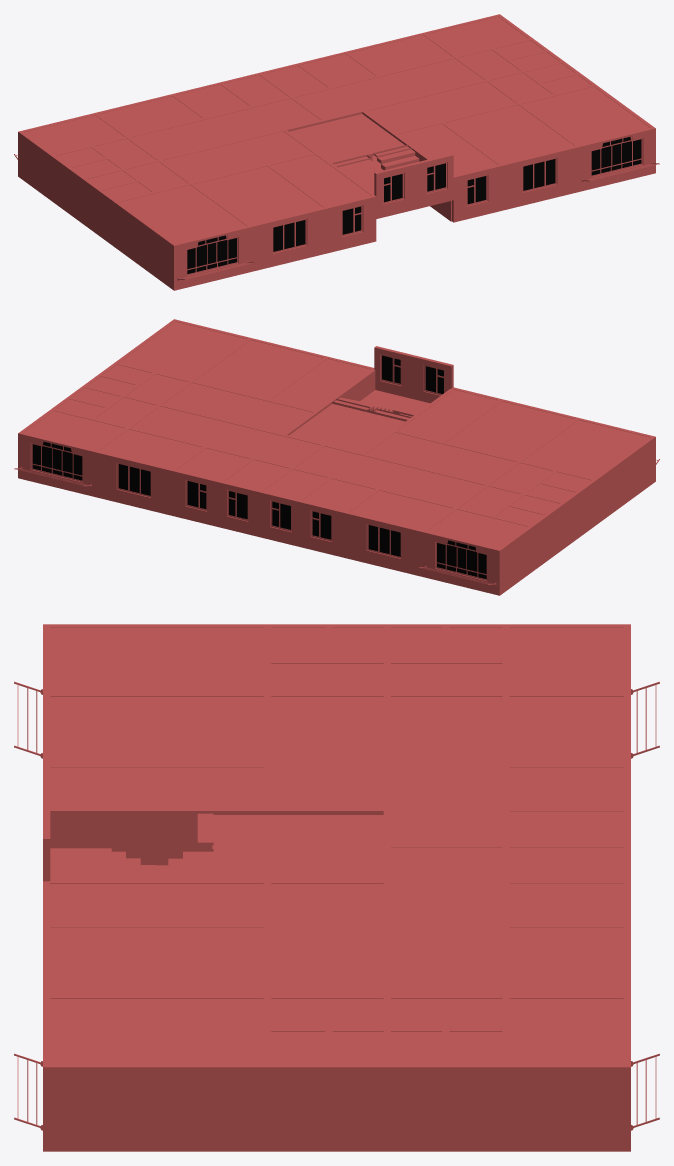
Rendered from SM_house_section_23.fbx.
The picture shows the model from 3 angles, top to bottom: view 1: azimuth 30°, elevation 25°; view 2: azimuth 150°, elevation 25°; view 3: azimuth 270°, elevation 25°; orthographic projection. The views are drawn at different scales.
Visible parts, largest first — view 1: Cube_2; view 2: Cube_2; view 3: Cube_2.
Part boxes in pixels (<box>): Cube_2: <box>14,14,659,290</box>; Cube_2: <box>14,319,659,595</box>; Cube_2: <box>14,624,659,1151</box>.
Bounding box in the file's own units: 2807 × 375 × 1730.
